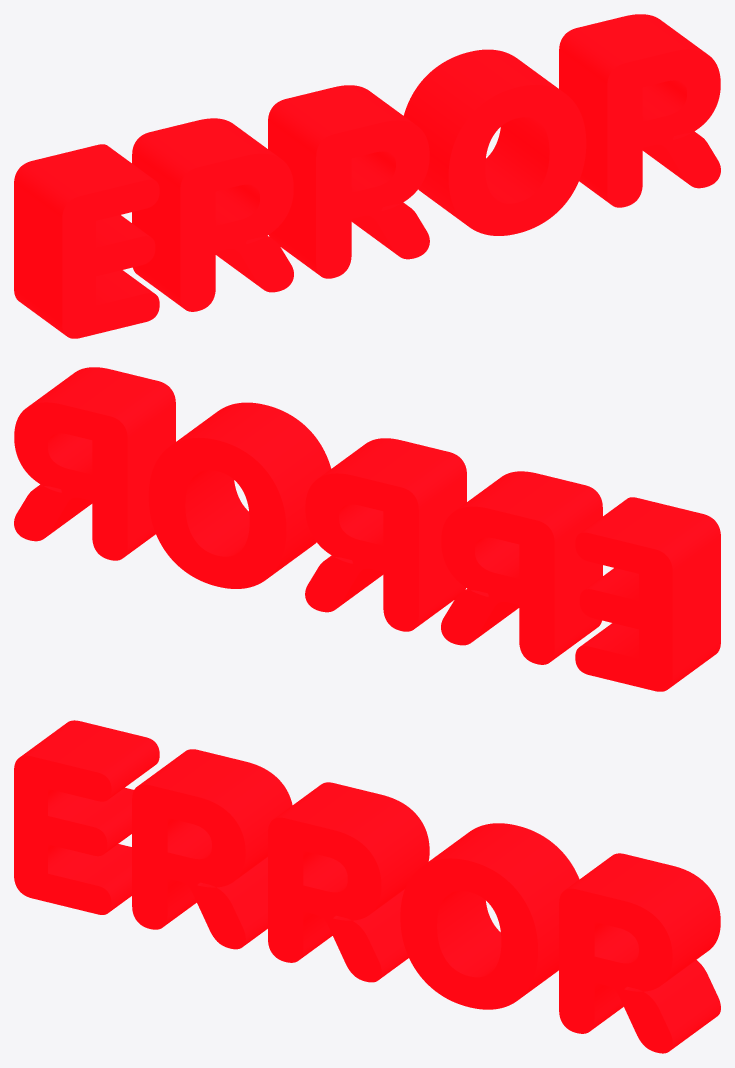
The model's file is ERROR.fbx.
3 renders of one model, top to bottom at view 1: azimuth 30°, elevation 25°; view 2: azimuth 150°, elevation 25°; view 3: azimuth 330°, elevation 25°, orthographic.
Parts seen in each view (by area): view 1: ERROR; view 2: ERROR; view 3: ERROR.
Boxes of the visible parts, x1,y1,x2,y2 form: ERROR: (14, 14, 720, 338); ERROR: (14, 367, 720, 691); ERROR: (14, 720, 720, 1053).
Size of the model in its own units: 253 by 53.65 by 32.
